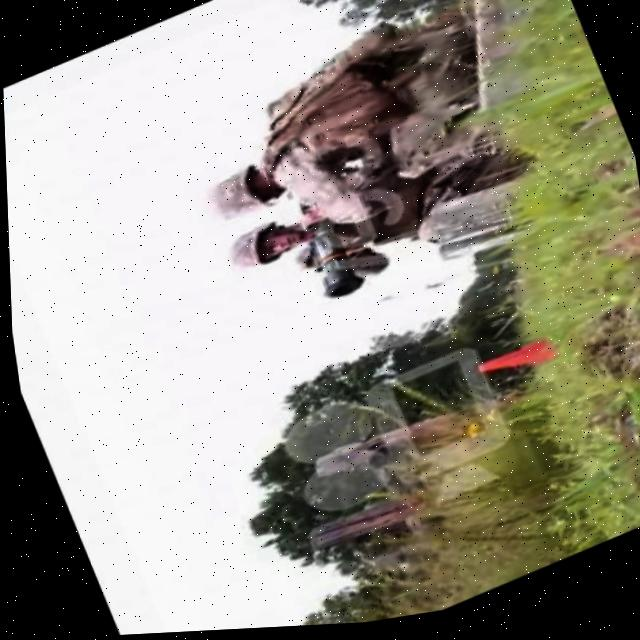rocket: (292, 210, 366, 306)
